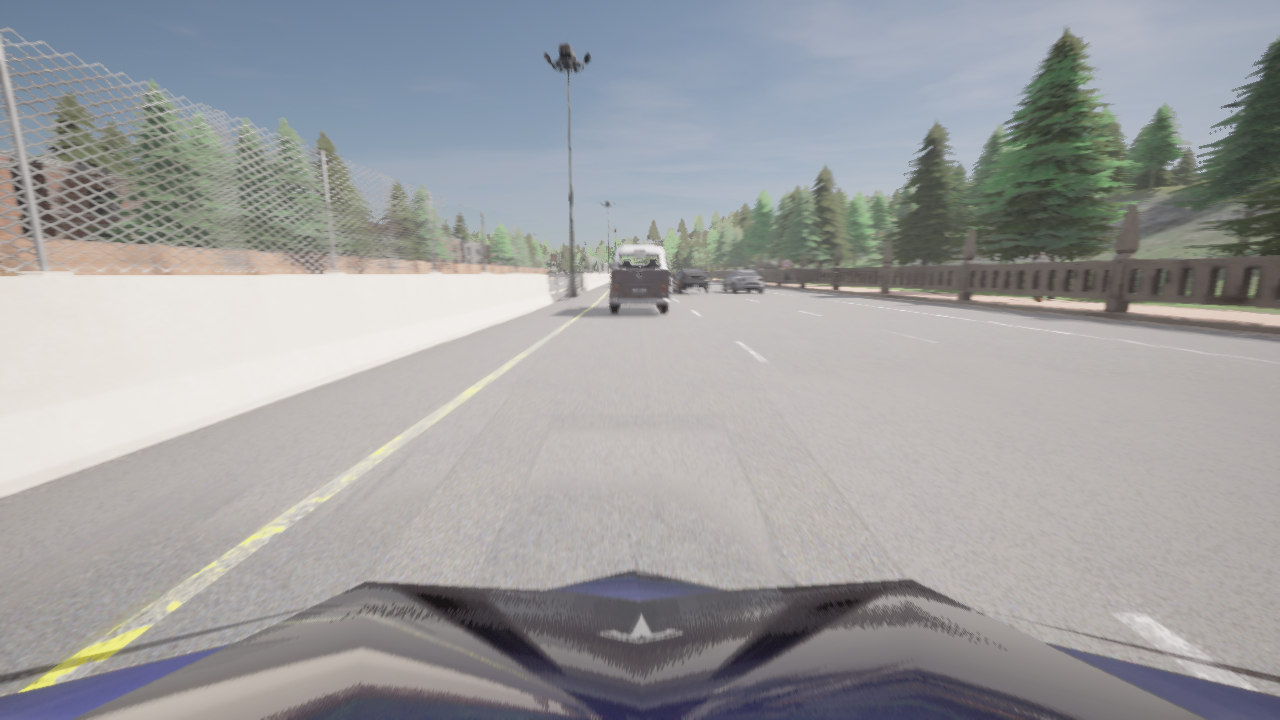cyclist: (0, 569, 1279, 719), (609, 245, 669, 313), (721, 270, 764, 292), (671, 268, 708, 293)
pedestrian: (1032, 256, 1056, 299), (1032, 252, 1049, 302)
